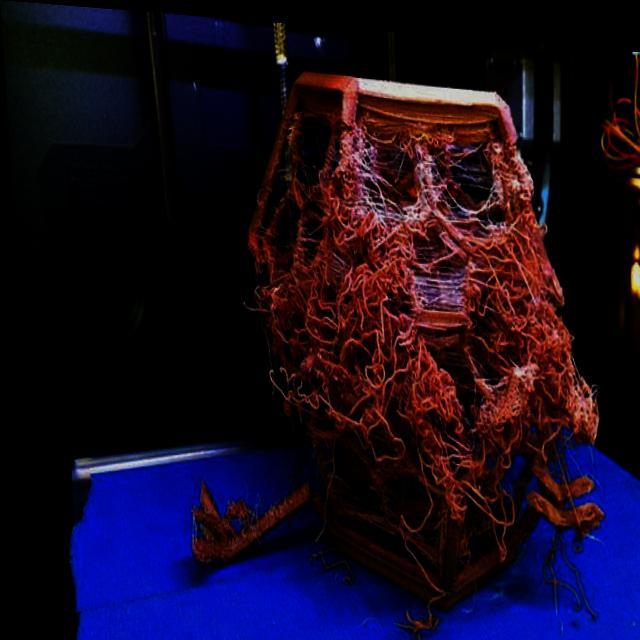spaghetti: (265, 118, 595, 532)
